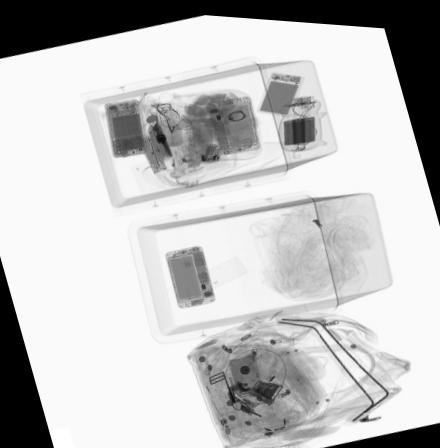Powerbank: (258, 69, 301, 111)
